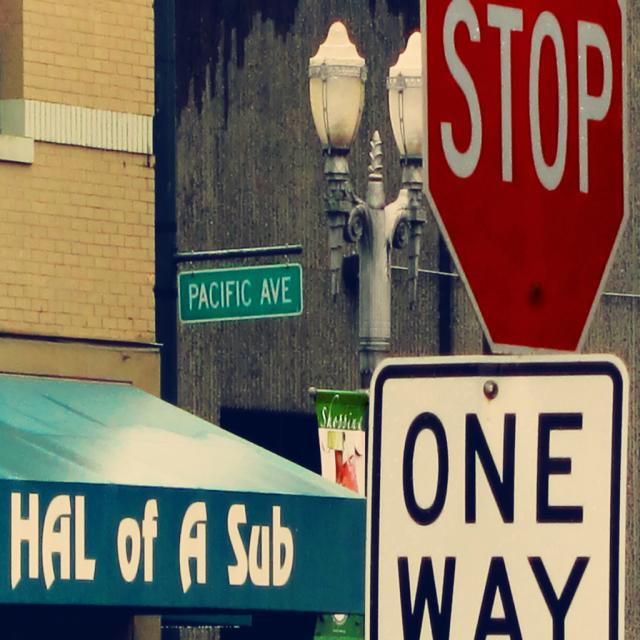Stop-sign: (421, 0, 631, 355)
